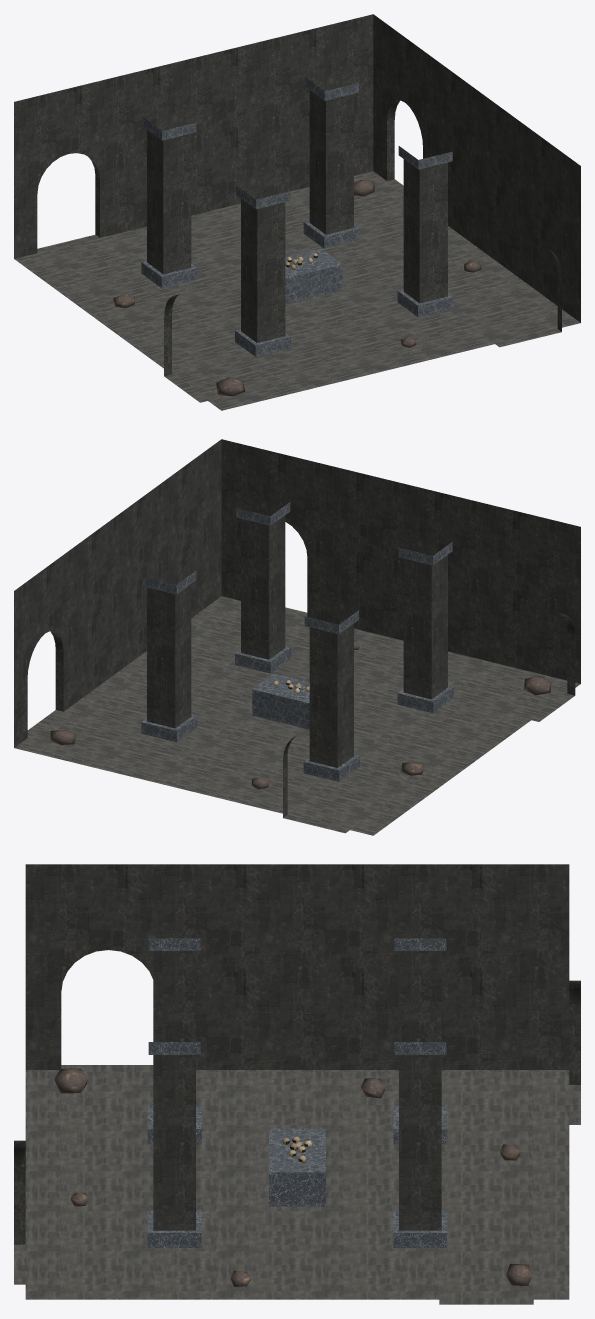
Rendered from room-vault.96f19af6.gltf.
3 views of the same model, one above another, from view 1: azimuth 30°, elevation 25°; view 2: azimuth 150°, elevation 25°; view 3: azimuth 270°, elevation 25° (orthographic). The views are drawn at different scales.
Parts seen in each view (by area): view 1: room-vault-mesh; view 2: room-vault-mesh; view 3: room-vault-mesh.
Part boxes in pixels (x1=…): room-vault-mesh: x1=14, y1=14, x2=580, y2=410; room-vault-mesh: x1=14, y1=439, x2=580, y2=835; room-vault-mesh: x1=14, y1=864, x2=580, y2=1304.
Size of the model in its own units: 12 by 4.95 by 12.
Materials: 5 (4 with a texture image).
